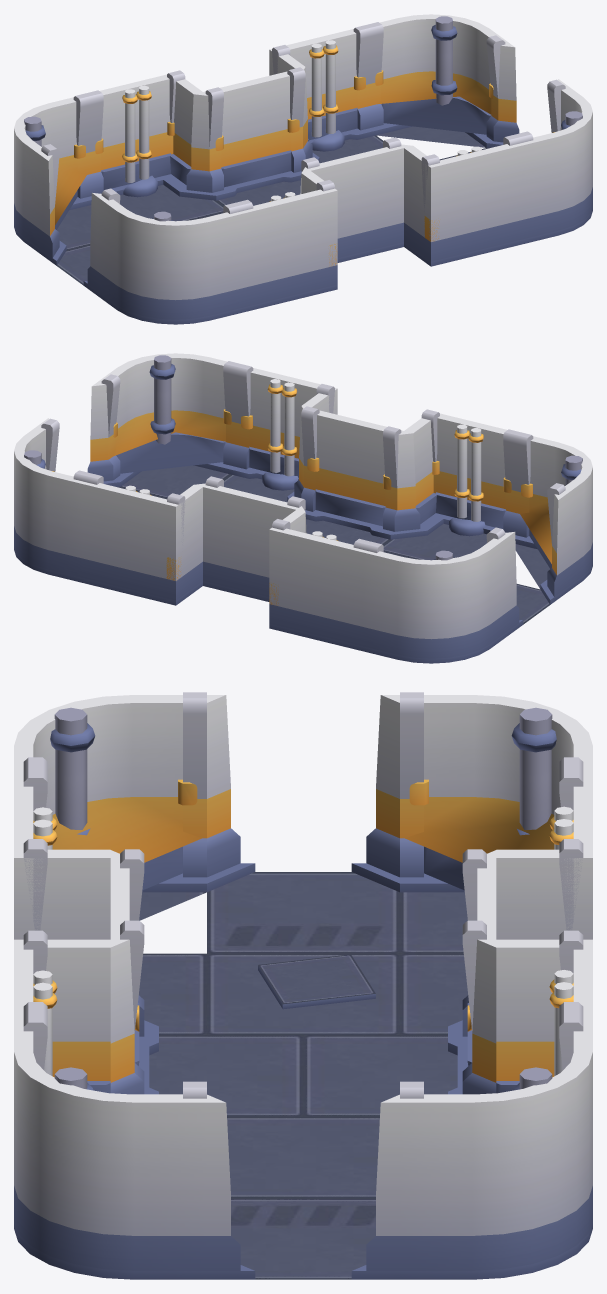
Rendered from kenney-space-modular-room-wide-variation.glb.
3 views of the same model, one above another, from view 1: azimuth 30°, elevation 25°; view 2: azimuth 150°, elevation 25°; view 3: azimuth 270°, elevation 25° (orthographic). The views are drawn at different scales.
Visible parts, largest first — view 1: room-wide-variation; view 2: room-wide-variation; view 3: room-wide-variation.
Part boxes in pixels (x1,y1,x2,y2): room-wide-variation: [14, 14, 592, 324]; room-wide-variation: [14, 353, 592, 663]; room-wide-variation: [14, 692, 592, 1279].
Bounding box in the file's own units: 20 × 4.25 × 12.
Materials: 1 (1 with a texture image).
